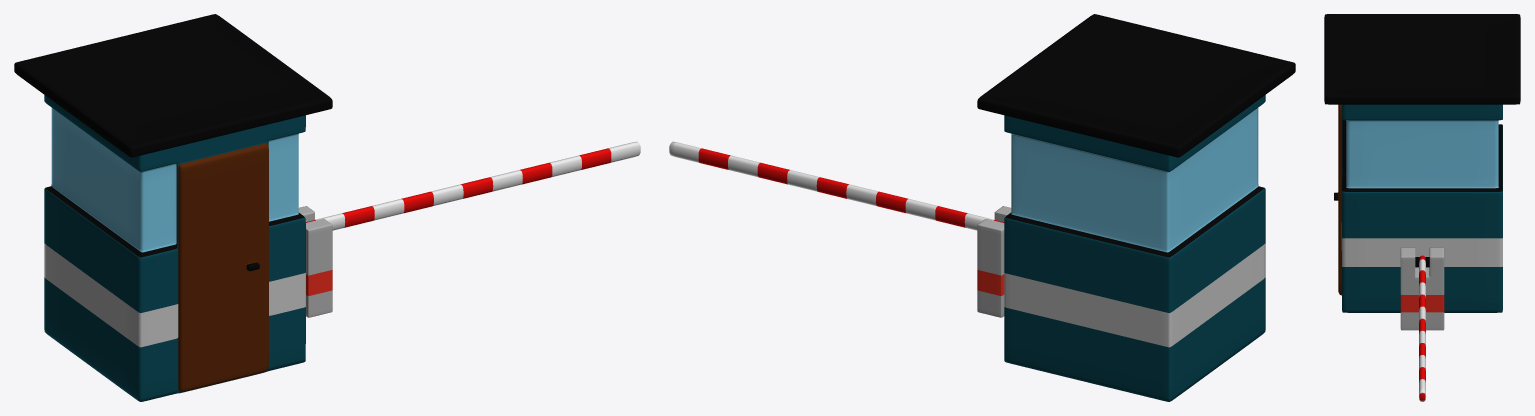
File: sto_upid.fbx
3 views of the same model, side by side, from view 1: azimuth 30°, elevation 25°; view 2: azimuth 150°, elevation 25°; view 3: azimuth 270°, elevation 25° (orthographic). The views are drawn at different scales.
Visible parts, largest first — view 1: Cube, Cube.002, Cube.001; view 2: Cube, Cube.002, Cube.001; view 3: Cube, Cube.001, Cube.002.
Part boxes in pixels (x1,y1,x2,y2): Cube: (14, 14, 332, 401); Cube.002: (306, 141, 640, 230); Cube.001: (298, 206, 332, 317); Cube: (977, 14, 1295, 401); Cube.002: (669, 141, 1003, 230); Cube.001: (977, 206, 1011, 317); Cube: (1324, 14, 1520, 312); Cube.001: (1400, 247, 1444, 330); Cube.002: (1419, 255, 1425, 401).
Bounding box in the file's own units: 1813 × 819 × 649.
